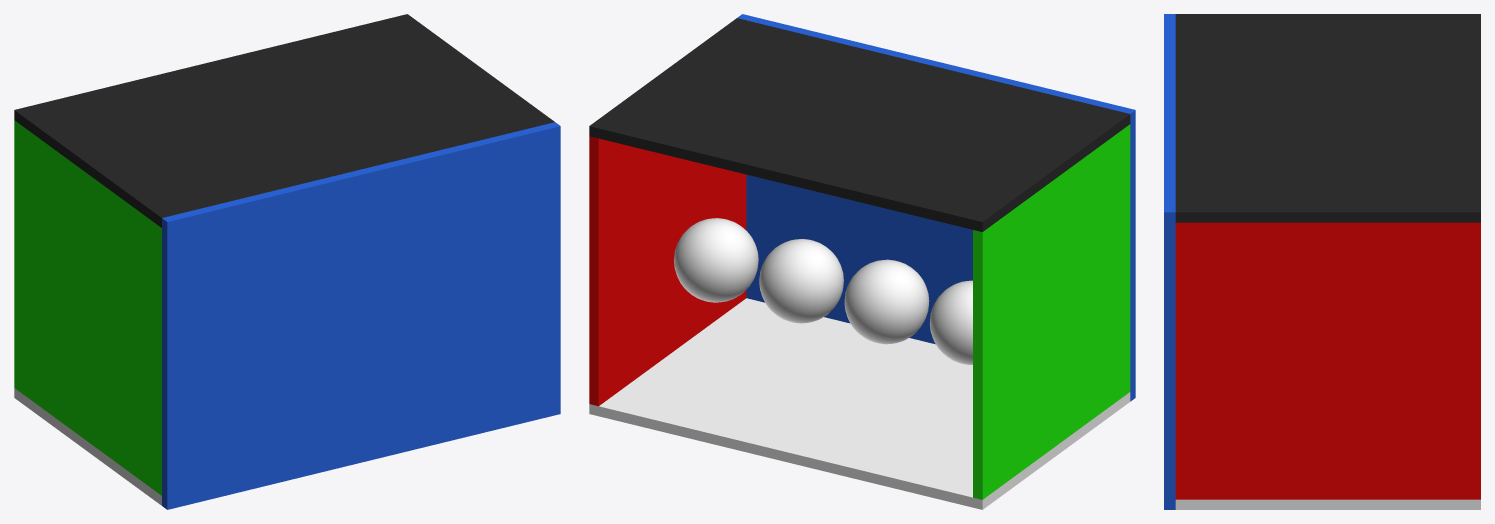
Rendered from reflexballs_box.glb.
The picture shows the model from 3 angles, left to right: view 1: azimuth 30°, elevation 25°; view 2: azimuth 150°, elevation 25°; view 3: azimuth 270°, elevation 25°; orthographic projection. The views are drawn at different scales.
Parts seen in each view (by area): view 1: Wall Back, Ceiling, Wall Right, Floor; view 2: Ceiling, Floor, Wall Right, Wall Left, Wall Back, Sphere (1), Sphere, Sphere (2), Sphere (3); view 3: Wall Left, Ceiling, Wall Back, Floor.
Part boxes in pixels (left/top/right/bottom): Wall Back: left=162, top=122, right=560, bottom=509; Ceiling: left=14, top=14, right=554, bottom=227; Wall Right: left=14, top=120, right=161, bottom=495; Floor: left=14, top=388, right=161, bottom=505; Ceiling: left=589, top=18, right=1130, bottom=231; Floor: left=589, top=298, right=1130, bottom=509; Wall Right: left=973, top=124, right=1130, bottom=499; Wall Left: left=589, top=136, right=746, bottom=406; Wall Back: left=737, top=14, right=1135, bottom=401; Sphere (1): left=759, top=239, right=843, bottom=323; Sphere: left=674, top=218, right=758, bottom=302; Sphere (2): left=844, top=259, right=929, bottom=344; Sphere (3): left=929, top=280, right=972, bottom=364; Wall Left: left=1175, top=222, right=1480, bottom=499; Ceiling: left=1175, top=14, right=1480, bottom=222; Wall Back: left=1164, top=14, right=1175, bottom=509; Floor: left=1175, top=499, right=1480, bottom=509.
Size of the model in its own units: 6.15 by 4.3 by 4.15.
